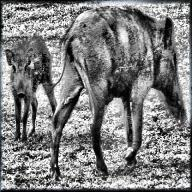boar: (47, 0, 192, 191)
